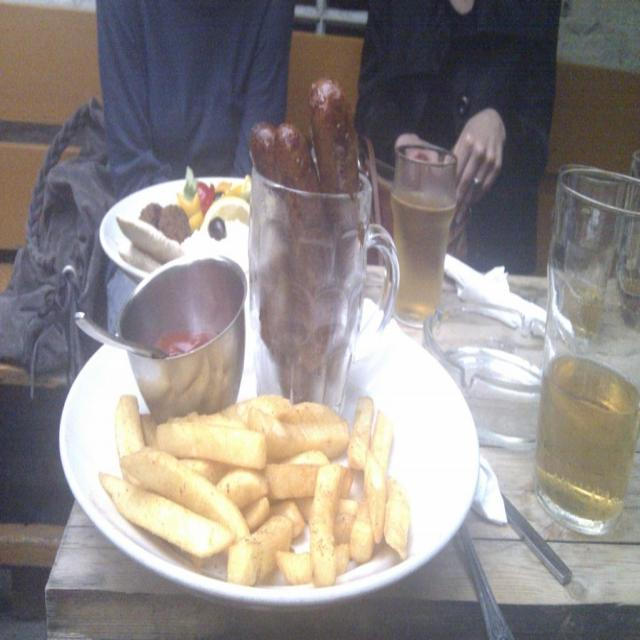French fries: (79, 377, 417, 595)
